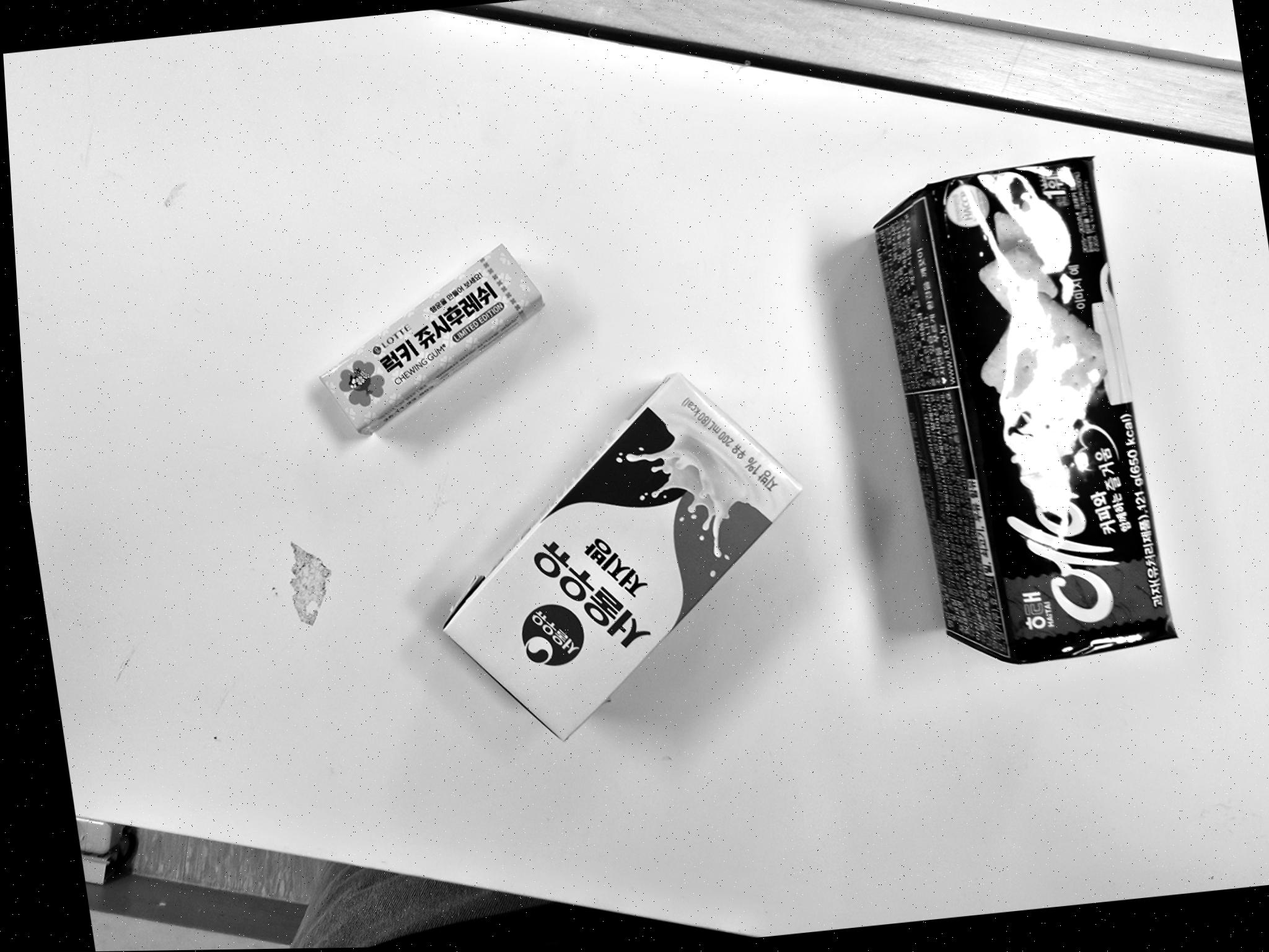cracker_ace: (874, 158, 1176, 664)
gum_yellow: (357, 246, 541, 401)
milk_blue: (444, 374, 801, 740)
